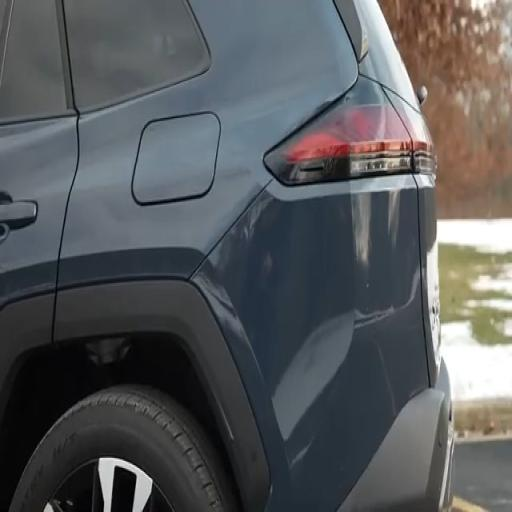bumper: (339, 362, 453, 511)
door: (0, 0, 78, 420)
taillight: (265, 77, 435, 184)
tire: (10, 387, 238, 511)
wheel: (10, 389, 237, 511)
window: (64, 0, 209, 109), (0, 0, 67, 119)
